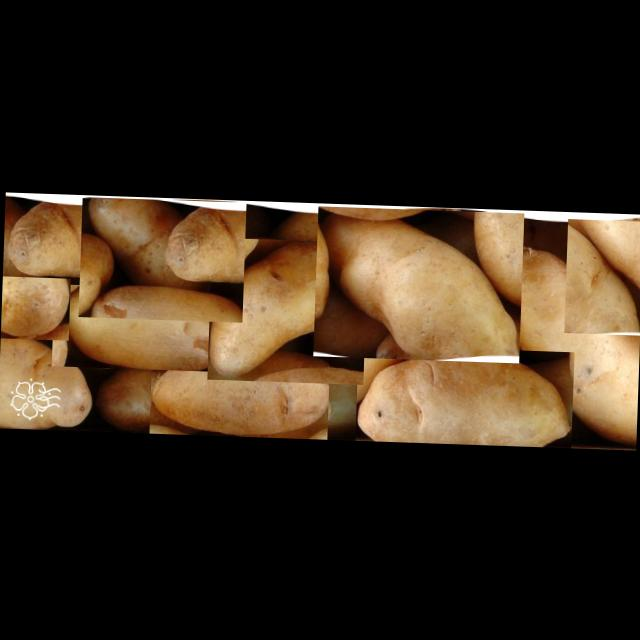Potato: (312, 205, 523, 362), (502, 243, 640, 444), (206, 236, 367, 384), (354, 344, 573, 446), (77, 196, 245, 322), (50, 282, 229, 371), (148, 358, 328, 438), (1, 194, 164, 281), (562, 217, 640, 334), (0, 253, 70, 339)
